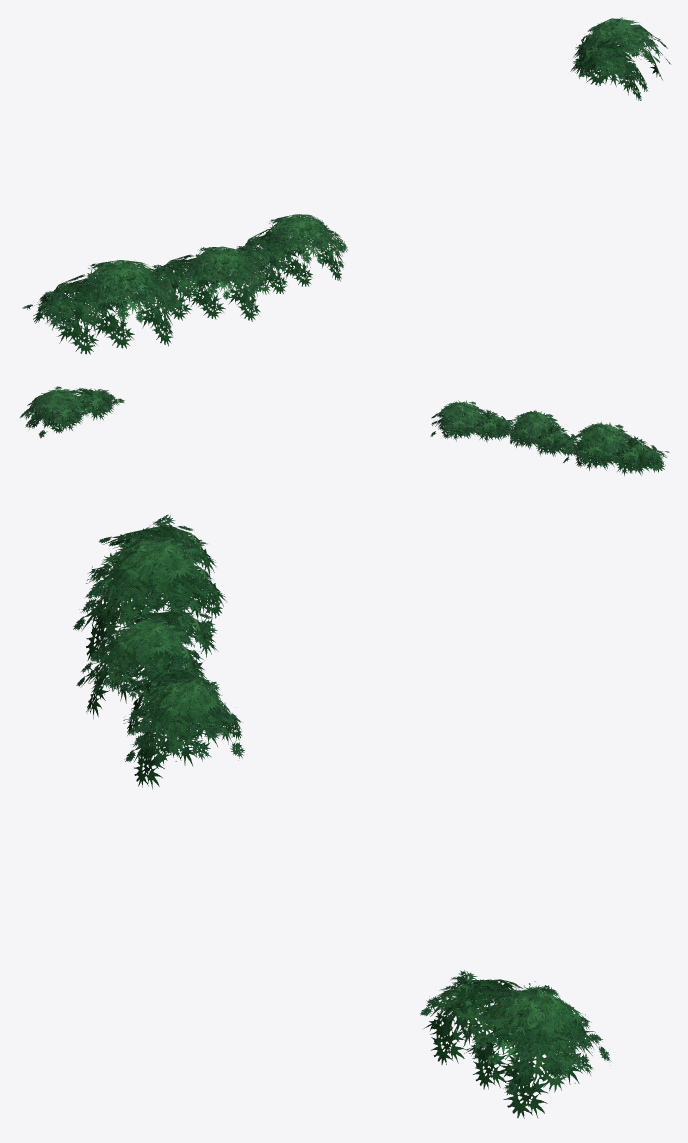
File: Area_11_36.fbx
The picture shows the model from 3 angles, top to bottom: view 1: azimuth 30°, elevation 25°; view 2: azimuth 150°, elevation 25°; view 3: azimuth 270°, elevation 25°; orthographic projection. The views are drawn at different scales.
Visible parts, largest first — view 1: Area_11_36; view 2: Area_11_36; view 3: Area_11_36.
Boxes of the visible parts, x1=… form: Area_11_36: x1=22, y1=17, x2=671, y2=354; Area_11_36: x1=20, y1=386, x2=669, y2=476; Area_11_36: x1=73, y1=514, x2=611, y2=1118.
Bounding box in the file's own units: 4410 × 463 × 1880.
